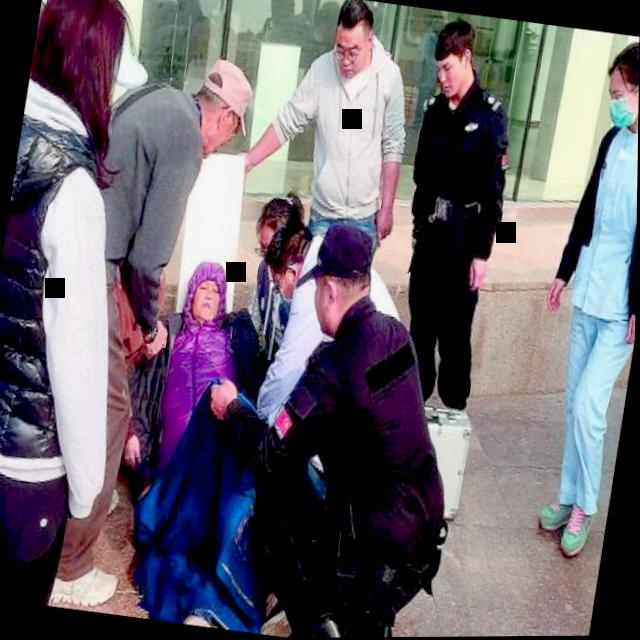Fall-Detected: (114, 232, 343, 638)
